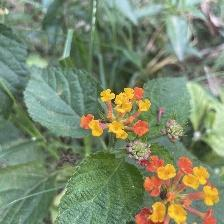common lanthana: (81, 85, 158, 141)
